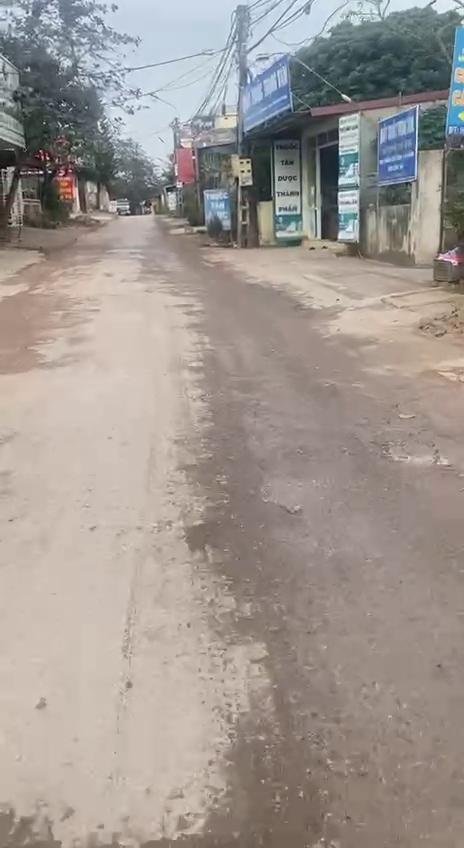pothole: (190, 722, 340, 848), (212, 460, 310, 538), (372, 435, 452, 472), (186, 516, 228, 554)
